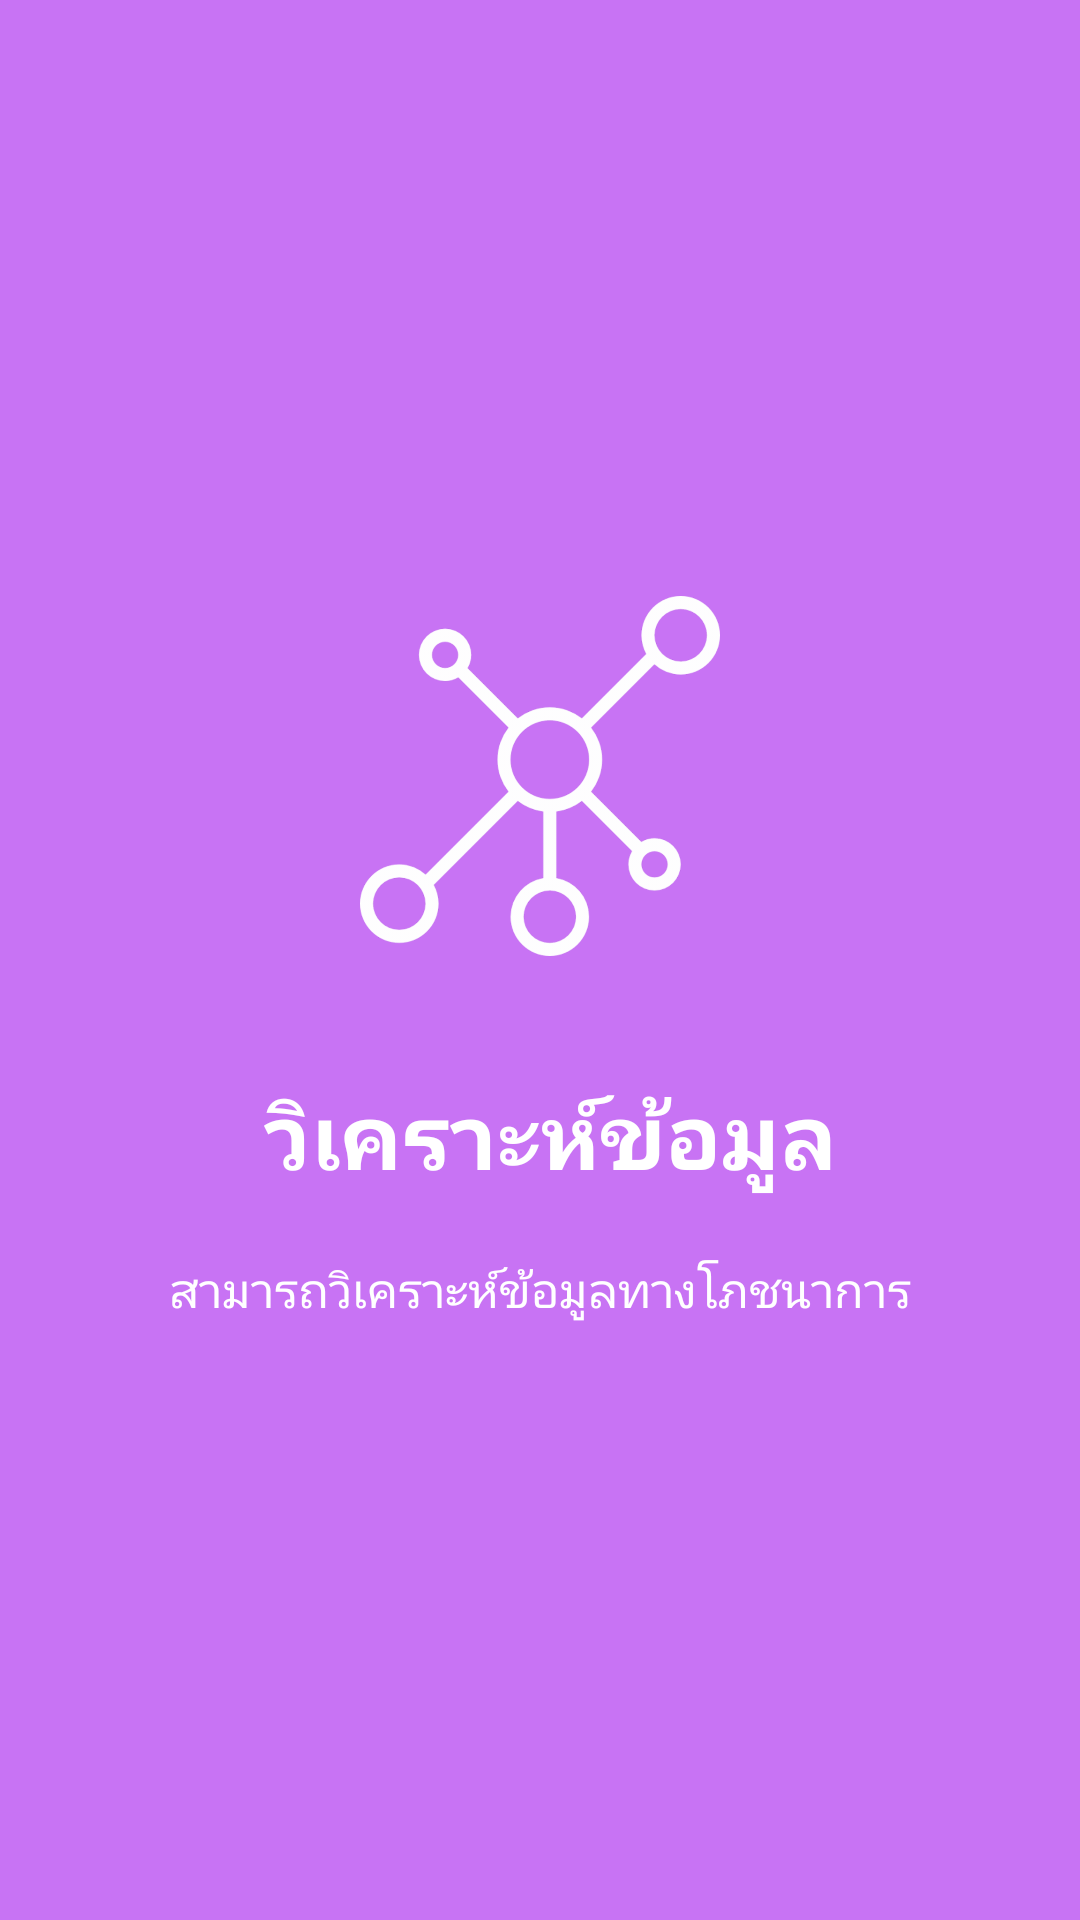

Icon bounding boxes for this 1080w x 1920h phone screenshot, format detection(x1, y1, x2, y2):
network: detection(360, 596, 720, 956)
